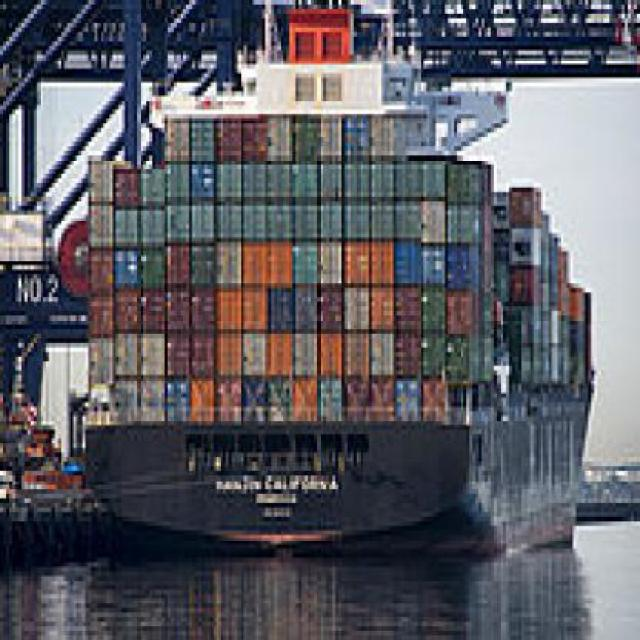container: (65, 65, 608, 572)
